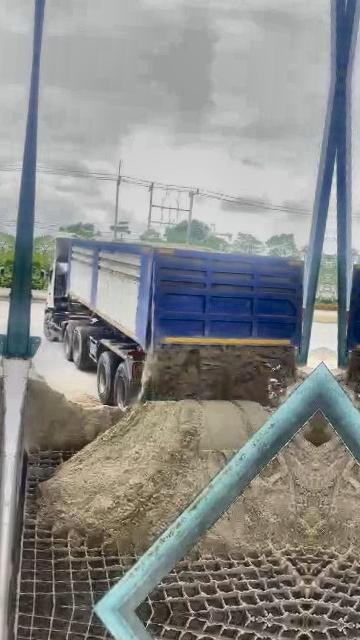sand: (41, 400, 269, 551), (200, 436, 317, 551), (143, 344, 296, 404), (24, 368, 122, 451), (130, 238, 219, 253), (280, 368, 310, 403), (302, 410, 320, 446)
